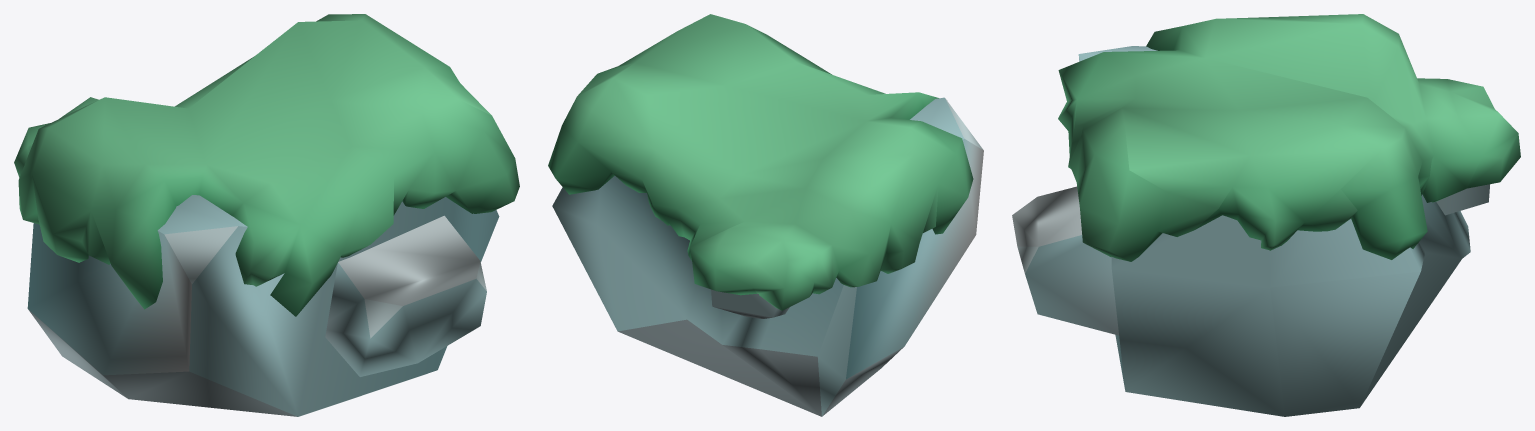
The model's file is WaterRockCCollider.glb.
The picture shows the model from 3 angles, left to right: view 1: azimuth 30°, elevation 25°; view 2: azimuth 150°, elevation 25°; view 3: azimuth 270°, elevation 25°; orthographic projection. The views are drawn at different scales.
Visible parts, largest first — view 1: WaterRockCCollider; view 2: WaterRockCCollider; view 3: WaterRockCCollider.
Boxes of the visible parts, x1,y1,x2,y2 form: WaterRockCCollider: (14,14,519,416); WaterRockCCollider: (548,14,983,416); WaterRockCCollider: (1012,14,1520,416).
Size of the model in its own units: 3.77 by 2.67 by 3.97.
